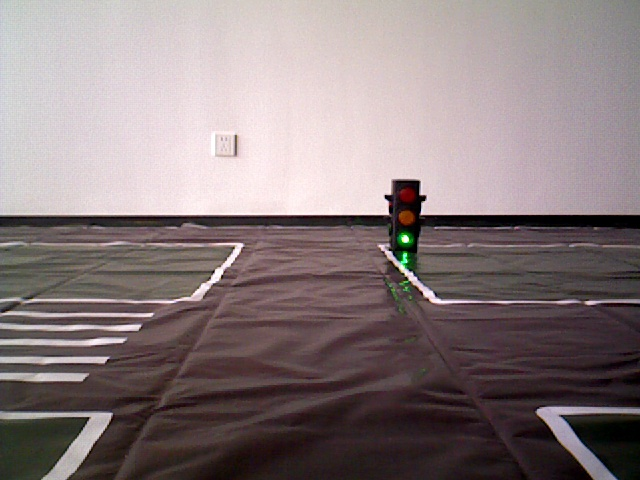green: (390, 183, 418, 248)
